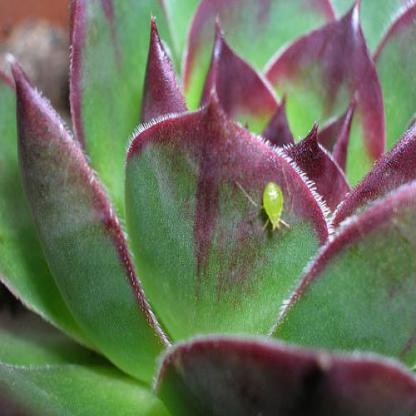aphid: (239, 167, 299, 240)
